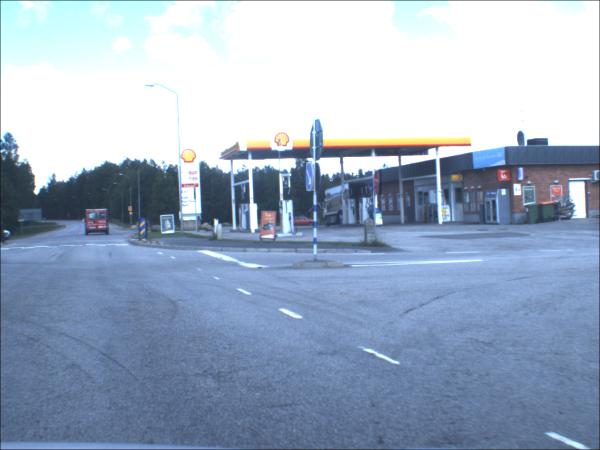50_SIGN: (129, 207, 134, 213)
PASS_RIGHT_SIDE: (307, 163, 317, 193)
PRIORITY_ROAD: (131, 213, 135, 217)
STOP: (373, 170, 384, 197)
